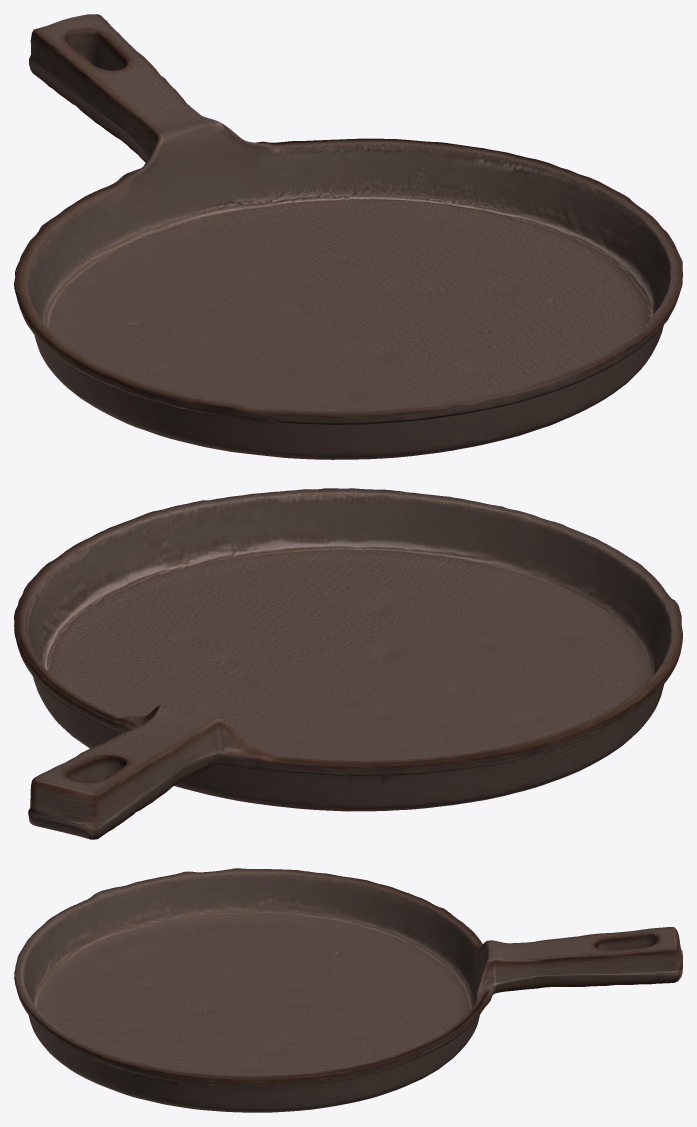
Rendered from griddle.glb.
3 views of the same model, one above another, from view 1: azimuth 30°, elevation 25°; view 2: azimuth 150°, elevation 25°; view 3: azimuth 270°, elevation 25° (orthographic). The views are drawn at different scales.
Visible parts, largest first — view 1: tripo_node_4e34e1db-16ac-4857-98d0-cedd3ea1061c; view 2: tripo_node_4e34e1db-16ac-4857-98d0-cedd3ea1061c; view 3: tripo_node_4e34e1db-16ac-4857-98d0-cedd3ea1061c.
Boxes of the visible parts, bbox=[...] form: tripo_node_4e34e1db-16ac-4857-98d0-cedd3ea1061c: bbox=[14, 14, 682, 459]; tripo_node_4e34e1db-16ac-4857-98d0-cedd3ea1061c: bbox=[14, 488, 682, 839]; tripo_node_4e34e1db-16ac-4857-98d0-cedd3ea1061c: bbox=[14, 868, 682, 1112].
Bounding box in the file's own units: 0.7456 × 0.1385 × 1.
Materials: 1 (1 with a texture image).
